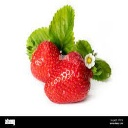strawberry: (43, 51, 96, 104), (26, 37, 65, 83)
